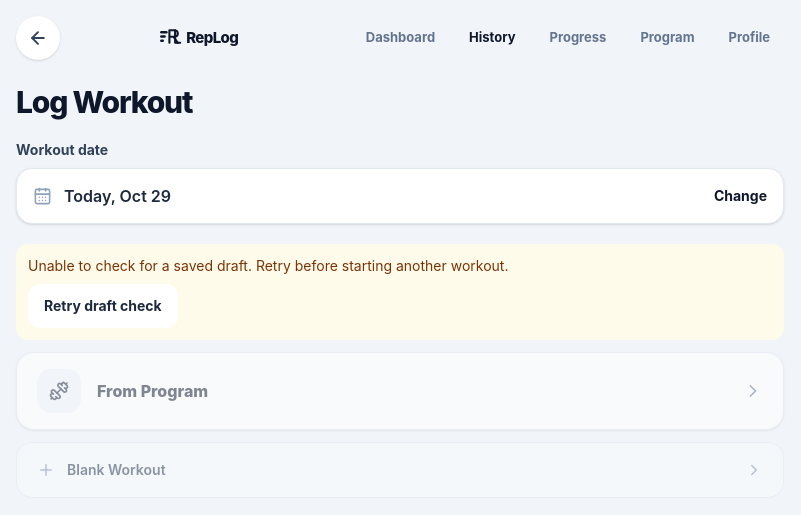
Test: manual program picker dialog › blocks creation after a draft-check error until Retry succeeds
Expected: the button "From Program" is disabled, [16, 352, 784, 430]
Expected: the button "Blank Workout" is disabled, [16, 442, 784, 498]
Click the button "Retry draft check". click: (103, 306)
box: [28, 284, 178, 328]
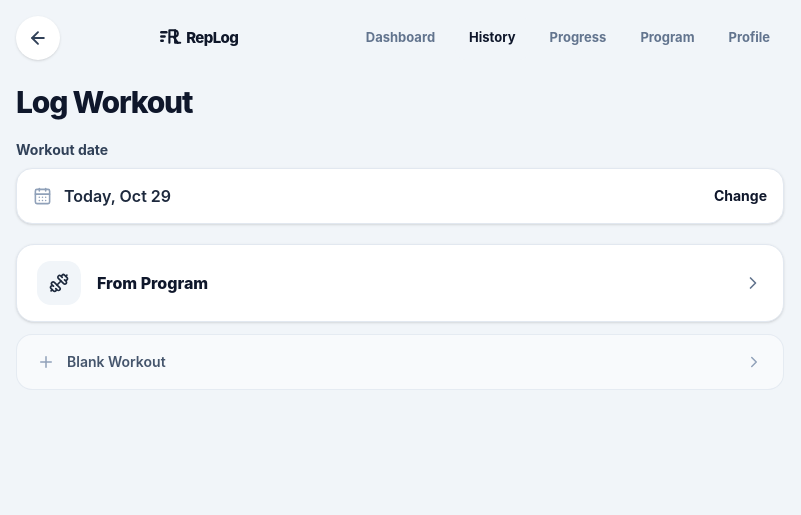
Result: the button "From Program" is enabled at [16, 244, 784, 322]
Result: the button "Blank Workout" is enabled at [16, 334, 784, 390]
